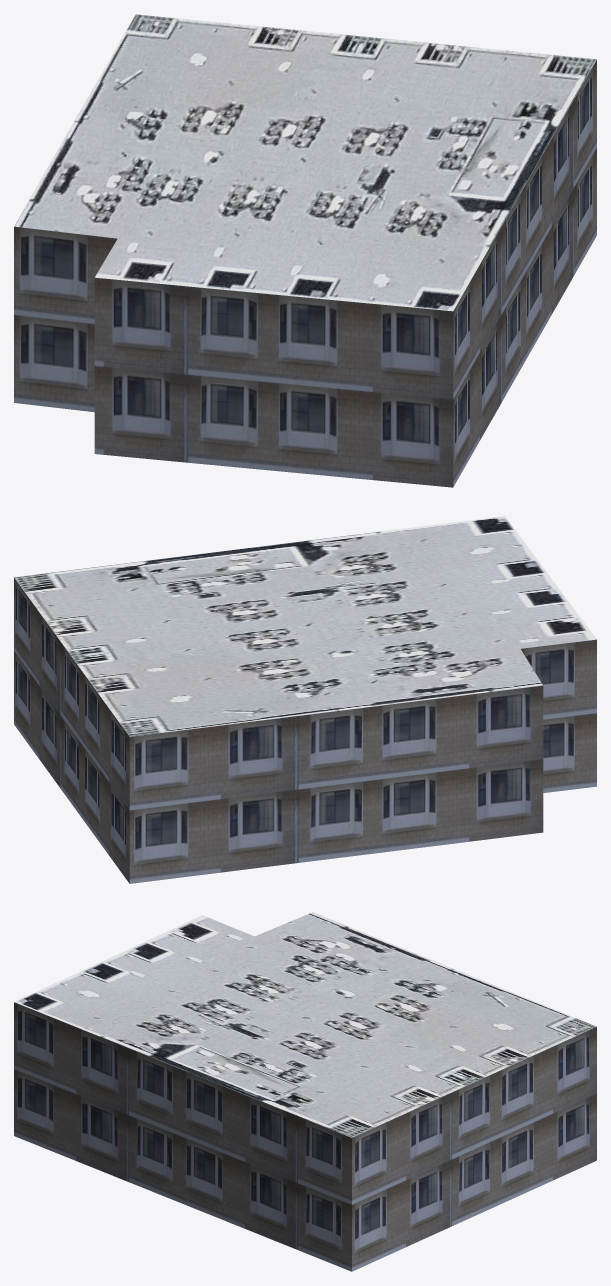
The model's file is ResTex__1805.fbx.
The picture shows the model from 3 angles, top to bottom: view 1: azimuth 30°, elevation 25°; view 2: azimuth 150°, elevation 25°; view 3: azimuth 270°, elevation 25°; orthographic projection. The views are drawn at different scales.
Parts seen in each view (by area): view 1: CityEngineMaterial_m, CityEngineMaterial_3_m; view 2: CityEngineMaterial_3_m, CityEngineMaterial_m; view 3: CityEngineMaterial_3_m, CityEngineMaterial_m.
Boxes of the visible parts, x1,y1,x2,y2 form: CityEngineMaterial_m: (14, 14, 596, 311); CityEngineMaterial_3_m: (14, 60, 596, 487); CityEngineMaterial_3_m: (14, 578, 596, 883); CityEngineMaterial_m: (14, 516, 596, 736); CityEngineMaterial_3_m: (14, 1002, 596, 1271); CityEngineMaterial_m: (14, 912, 596, 1137).
Bounding box in the file's own units: 21.68 × 6 × 23.67.
2 materials, 2 textured.
